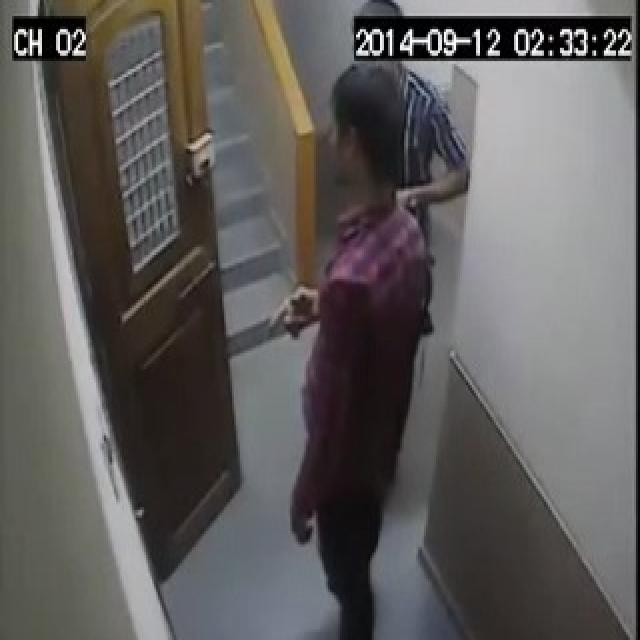thief: (255, 0, 463, 635)
